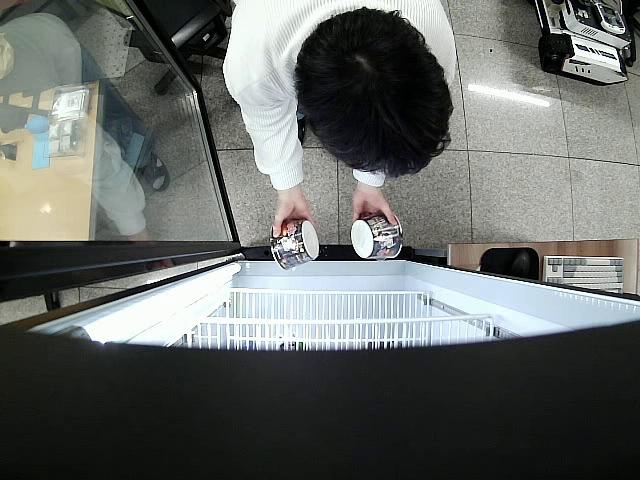00_hand: (351, 183, 396, 226), (272, 191, 311, 239)
07_buldak_L: (351, 210, 404, 262), (270, 219, 320, 273)
